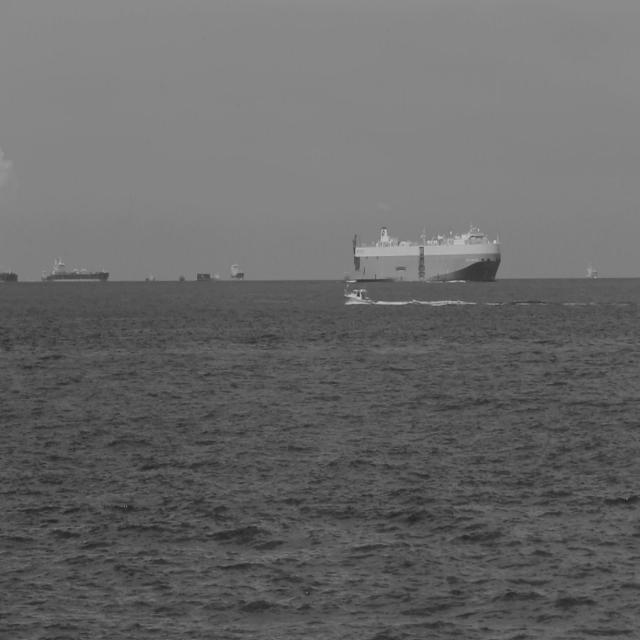ship: (352, 222, 501, 284), (50, 252, 110, 284), (343, 282, 373, 306), (229, 260, 245, 282), (0, 265, 19, 283), (196, 270, 212, 282), (40, 268, 50, 284), (178, 274, 185, 282)
